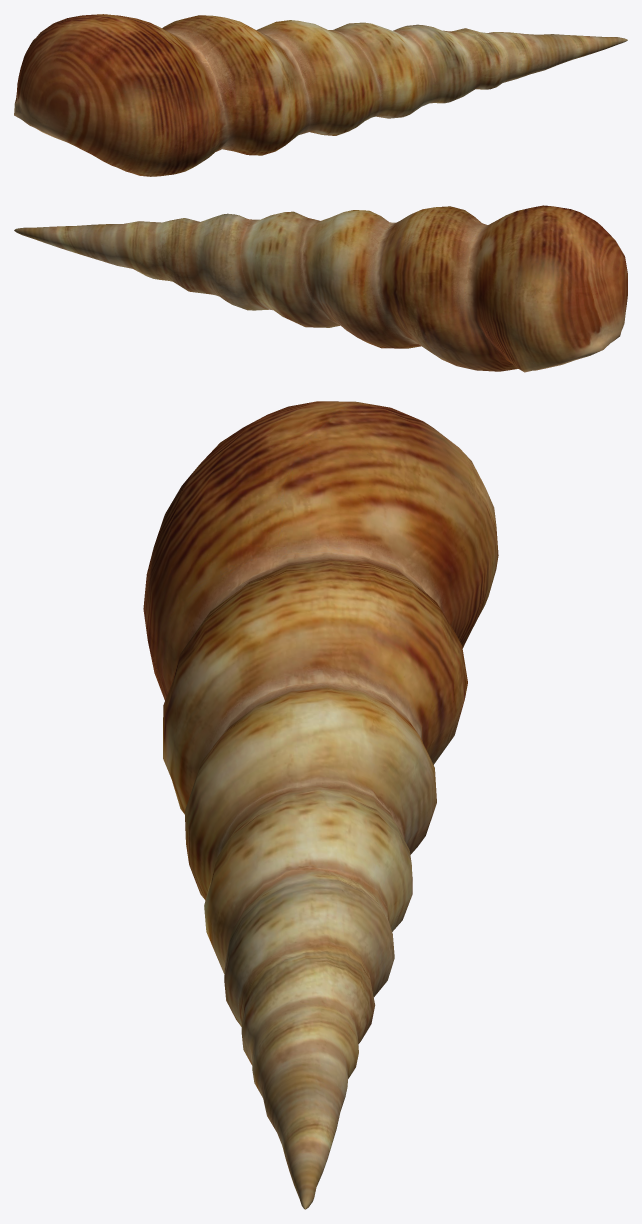
The model's file is TurretShell_2K.glb.
3 renders of one model, top to bottom at view 1: azimuth 30°, elevation 25°; view 2: azimuth 150°, elevation 25°; view 3: azimuth 270°, elevation 25°, orthographic. The views are drawn at different scales.
Parts seen in each view (by area): view 1: OBJ_TurretShell; view 2: OBJ_TurretShell; view 3: OBJ_TurretShell.
Part boxes in pixels (box(x1,y1,x2,y2)): OBJ_TurretShell: box(14, 14, 627, 176); OBJ_TurretShell: box(14, 205, 627, 372); OBJ_TurretShell: box(143, 401, 498, 1209).
Bounding box in the file's own units: 0.1322 × 0.0345 × 0.0346.
Materials: 1 (1 with a texture image).
